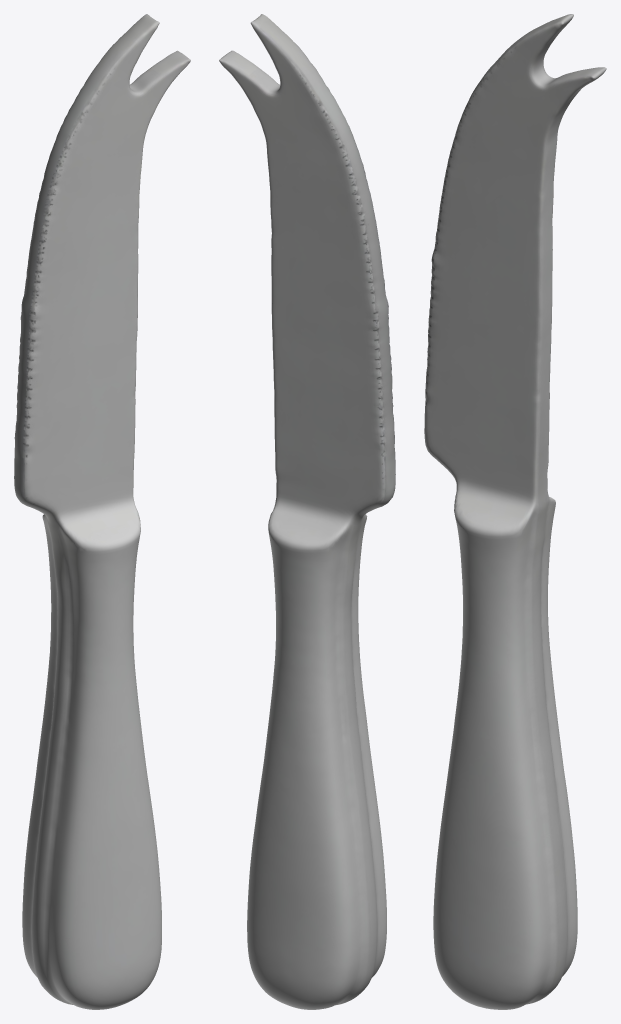
File: model_cheese_knife.glb
3 views of the same model, side by side, from view 1: azimuth 30°, elevation 25°; view 2: azimuth 150°, elevation 25°; view 3: azimuth 330°, elevation 25° (orthographic). The views are drawn at different scales.
Parts seen in each view (by area): view 1: tripo_node_233bf1dc-78e6-4243-88ae-c923d3028b9e; view 2: tripo_node_233bf1dc-78e6-4243-88ae-c923d3028b9e; view 3: tripo_node_233bf1dc-78e6-4243-88ae-c923d3028b9e.
Part boxes in pixels (x1,y1,x2,y2): tripo_node_233bf1dc-78e6-4243-88ae-c923d3028b9e: (14,14,190,1009); tripo_node_233bf1dc-78e6-4243-88ae-c923d3028b9e: (219,14,395,1009); tripo_node_233bf1dc-78e6-4243-88ae-c923d3028b9e: (424,14,606,1009).
Size of the model in its own units: 0.1813 by 0.9998 by 0.1091.
1 material, 1 textured.
